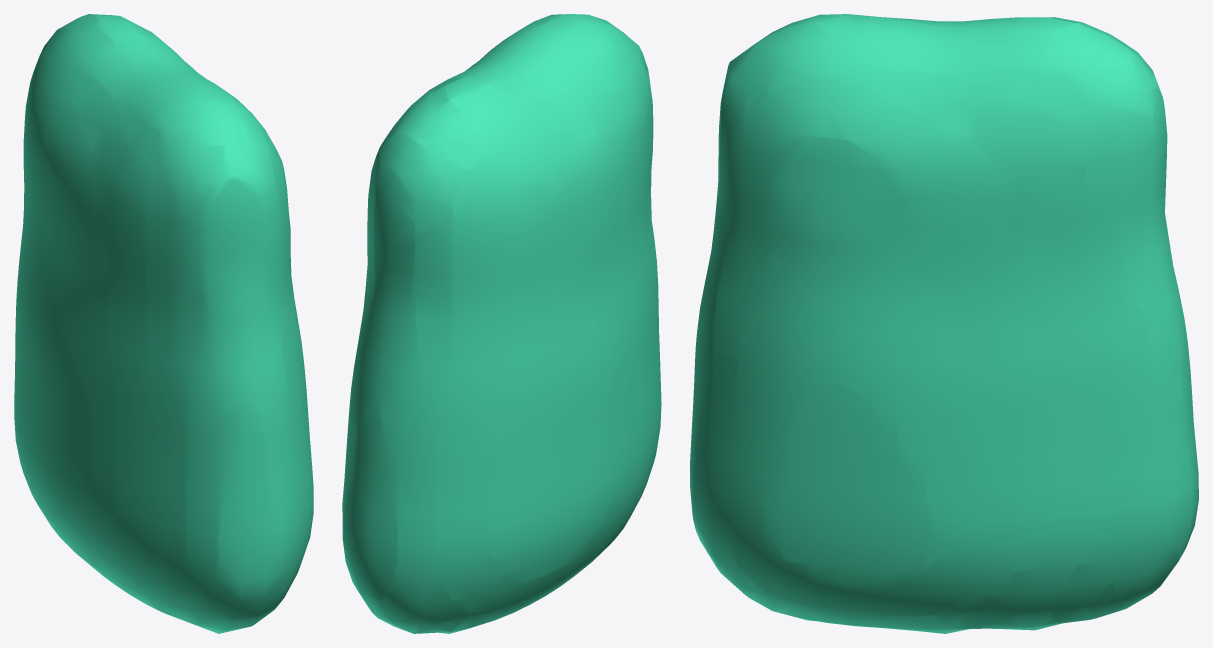
The picture shows the model from 3 angles, left to right: view 1: azimuth 30°, elevation 25°; view 2: azimuth 150°, elevation 25°; view 3: azimuth 270°, elevation 25°; orthographic projection. The views are drawn at different scales.
Parts seen in each view (by area): view 1: Liquid_Domain; view 2: Liquid_Domain; view 3: Liquid_Domain.
Part boxes in pixels (<box>): Liquid_Domain: <box>14,14,313,633</box>; Liquid_Domain: <box>342,14,661,633</box>; Liquid_Domain: <box>690,14,1198,633</box>.
Size of the model in its own units: 1.3 by 3.17 by 2.47.
